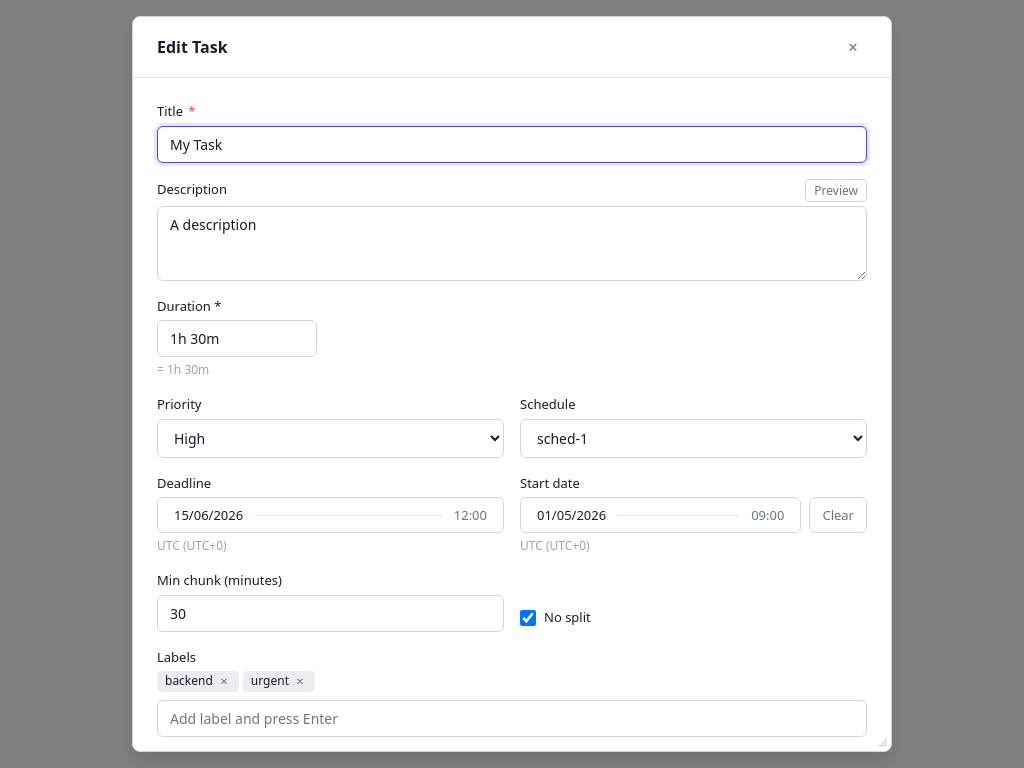
Test: TaskForm — dirty-gated footer visibility › edit mode dirty — footer visible=true
The image size is (1024, 768).
Replace the text in the field with placeholder "Task title" with "New Title": (512, 144) [157,126,867,162]
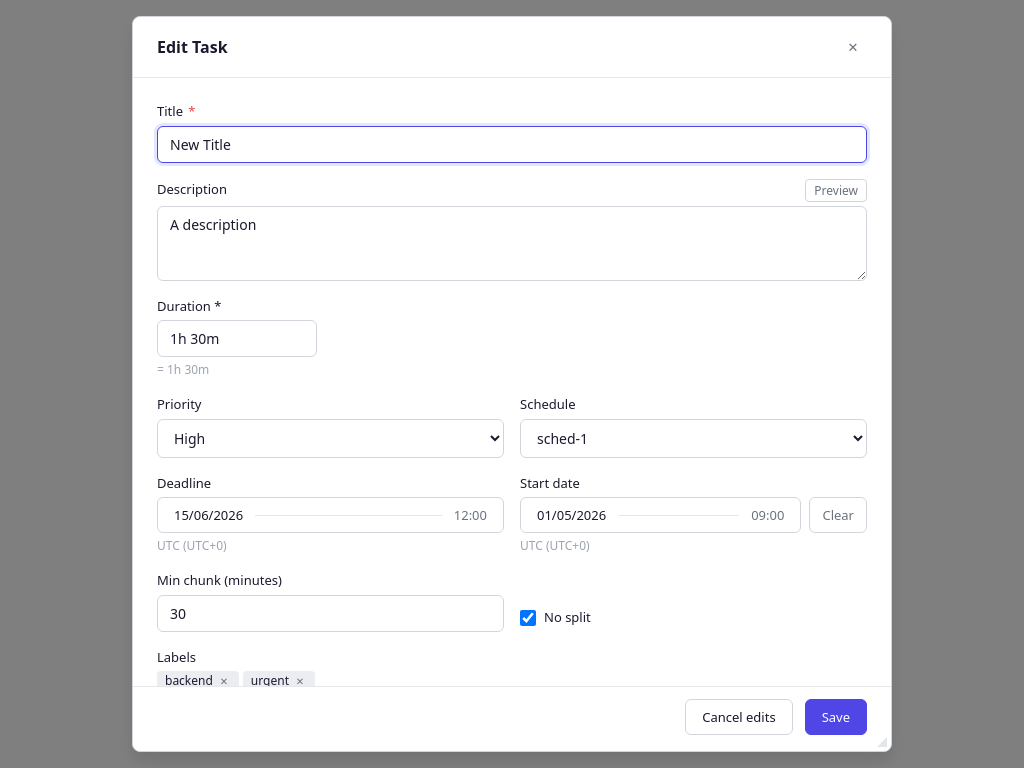
Now the button "Save" is shown, box [805,699,867,735]
Now the button "Cancel edits" is shown, box [685,699,793,735]
Now the element with class "modal-footer" is shown, box [133,686,891,751]
